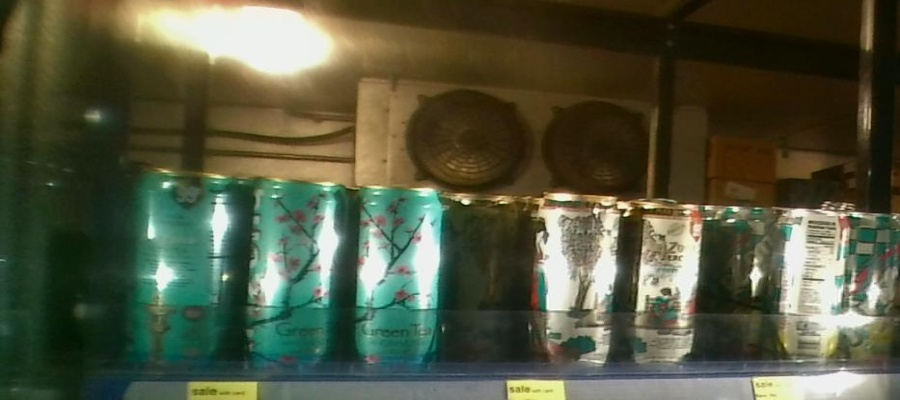bottle: (122, 162, 246, 382), (352, 168, 456, 382), (248, 165, 350, 379), (527, 186, 623, 380), (629, 192, 705, 377), (457, 186, 527, 375), (777, 195, 850, 374), (853, 203, 894, 372)
